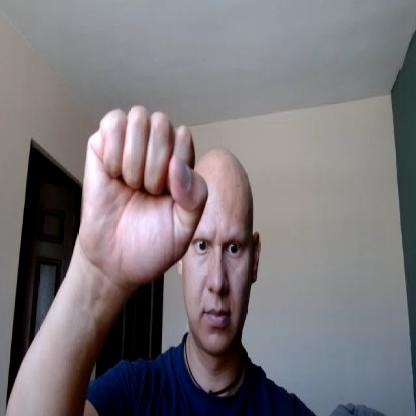S: (81, 102, 210, 283)
